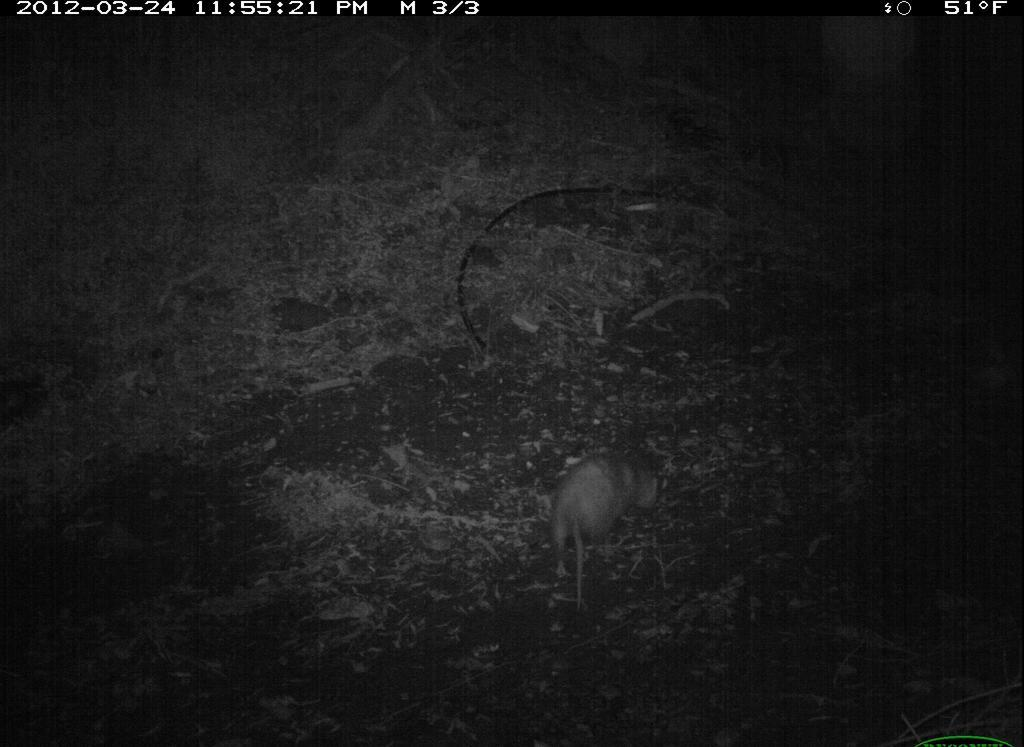opossum: (534, 436, 674, 635)
